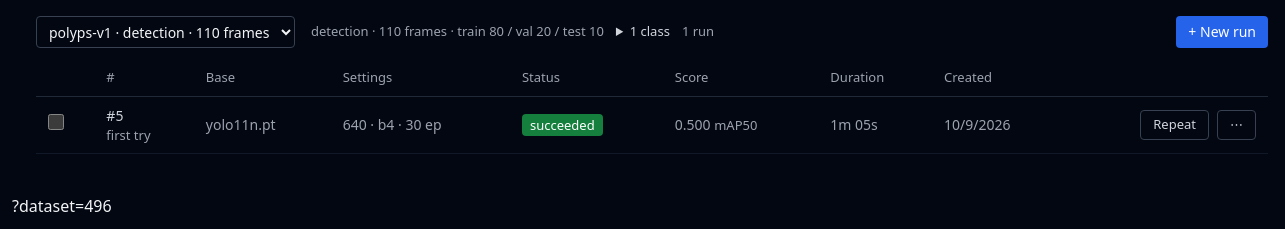
Test: TrainPage › deleting a run › deletes after confirmation and refreshes the table
This screenshot has width=1285, height=229.
Click the button "⋯". click: (1236, 125)
box: [1217,110,1256,140]
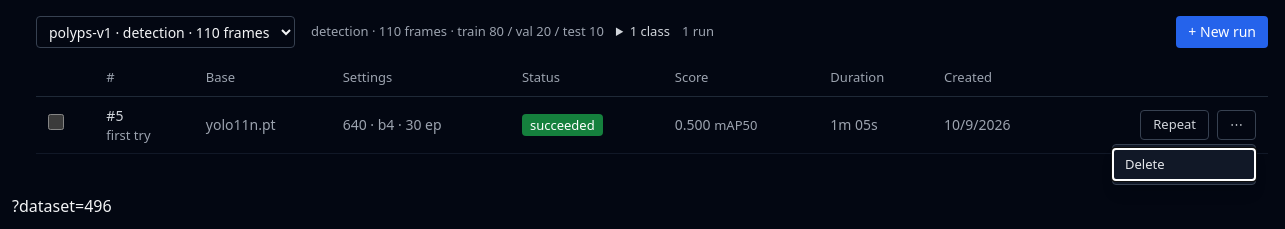
Click the menu item "Delete". click: (1184, 164)
box: [1113,148,1255,180]
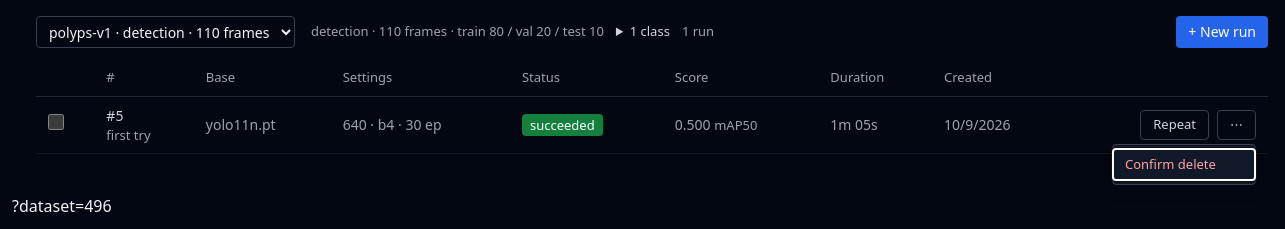
Click the menu item with aria-label "Confirm delete run 5". click: (1184, 164)
box: [1113,148,1255,180]
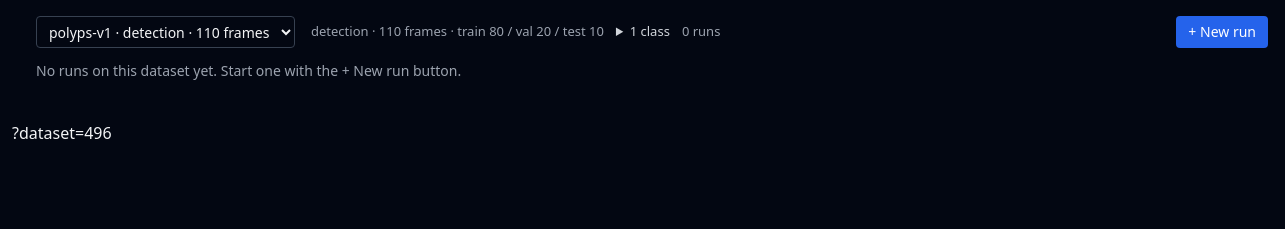
Expected: the text "No runs on this dataset yet" is shown, [36,61,461,80]
